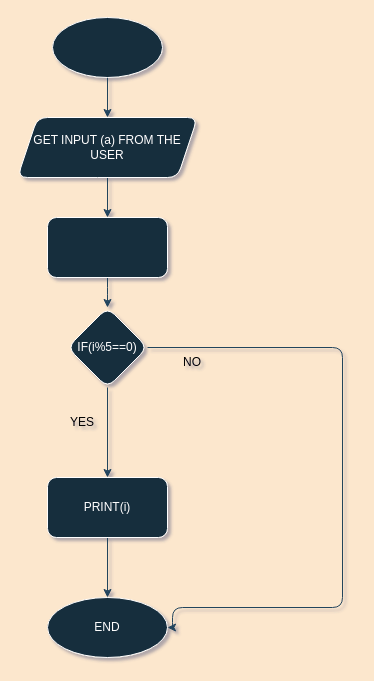
Image size: 374x681. Some labels were removed from this diagram. Each missing label, with the box of its shape:
FOR i IN RANGE(0,a): (46, 216, 168, 278)
START: (52, 16, 162, 78)
